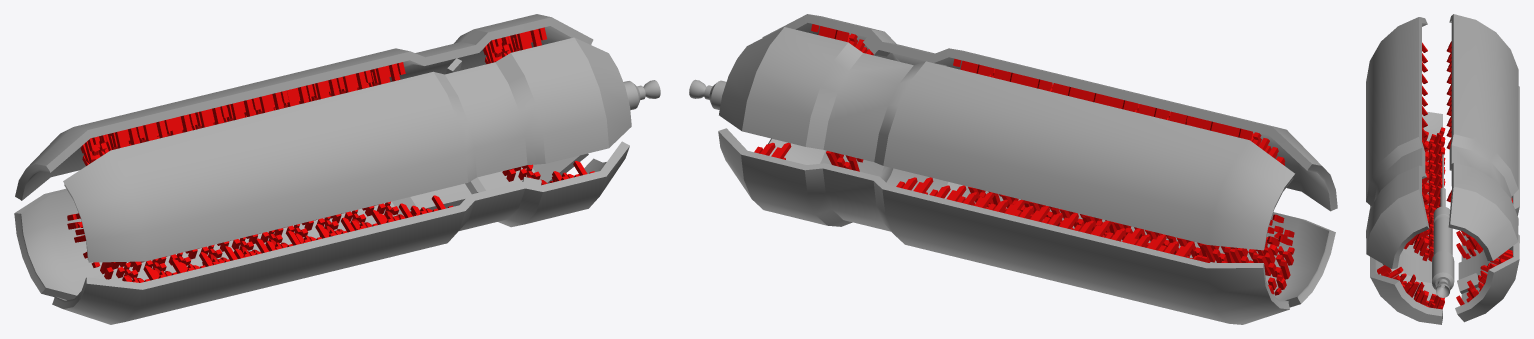
Rendered from city 1.fbx.
3 views of the same model, side by side, from view 1: azimuth 30°, elevation 25°; view 2: azimuth 150°, elevation 25°; view 3: azimuth 270°, elevation 25° (orthographic). The views are drawn at different scales.
Parts seen in each view (by area): view 1: pCylinder13; view 2: pCylinder13; view 3: pCylinder13.
Part boxes in pixels (bbox=[...]): pCylinder13: bbox=[14, 14, 660, 324]; pCylinder13: bbox=[689, 14, 1337, 324]; pCylinder13: bbox=[1366, 14, 1519, 324].
Size of the model in its own units: 84.99 by 24.51 by 24.61.
